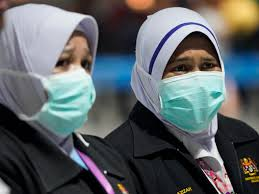surgical: (153, 72, 235, 133), (37, 73, 100, 137)
